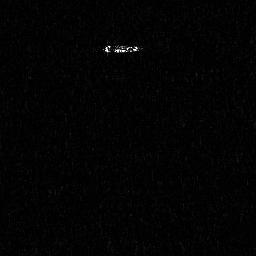ship: (102, 39, 144, 57)
